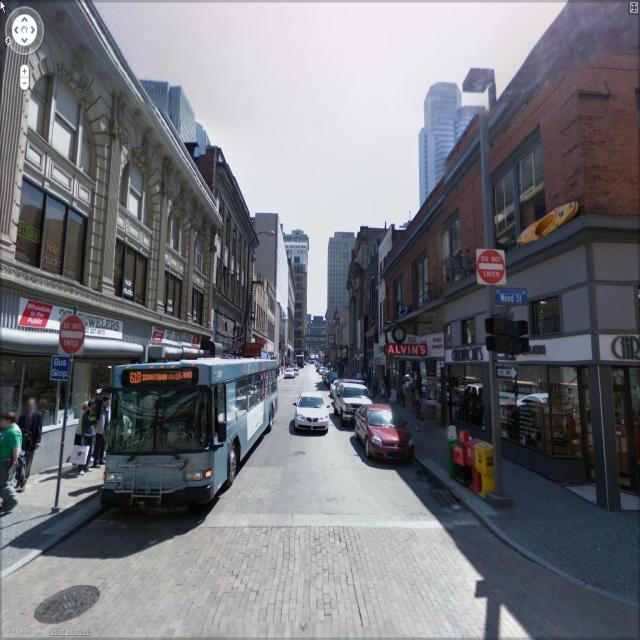b_1: (441, 29, 637, 468), (2, 2, 212, 370), (364, 208, 458, 404), (412, 71, 493, 211), (206, 158, 258, 336), (254, 211, 308, 366), (322, 212, 364, 337), (284, 221, 312, 366), (248, 276, 282, 368)
